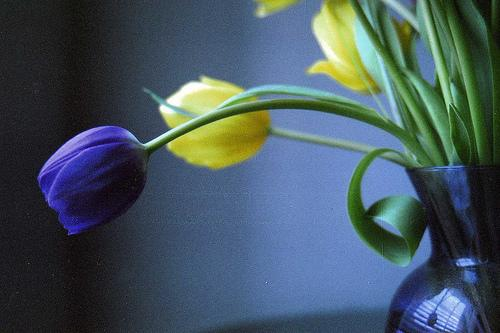tulip: (35, 125, 145, 235)
